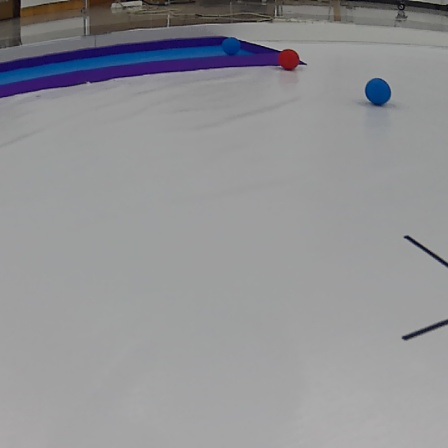blue: (365, 77, 392, 105), (220, 36, 242, 55)
blue_aim: (1, 35, 307, 92)
red: (278, 46, 300, 73)
